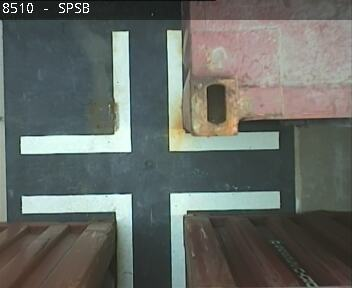groundmarker_1: (20, 32, 278, 154), (21, 190, 279, 288)
